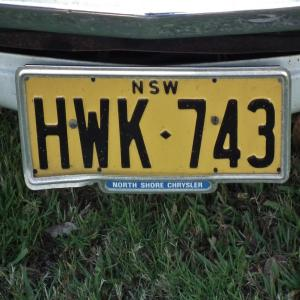Vehicle-registration-plate: (15, 68, 293, 195)
